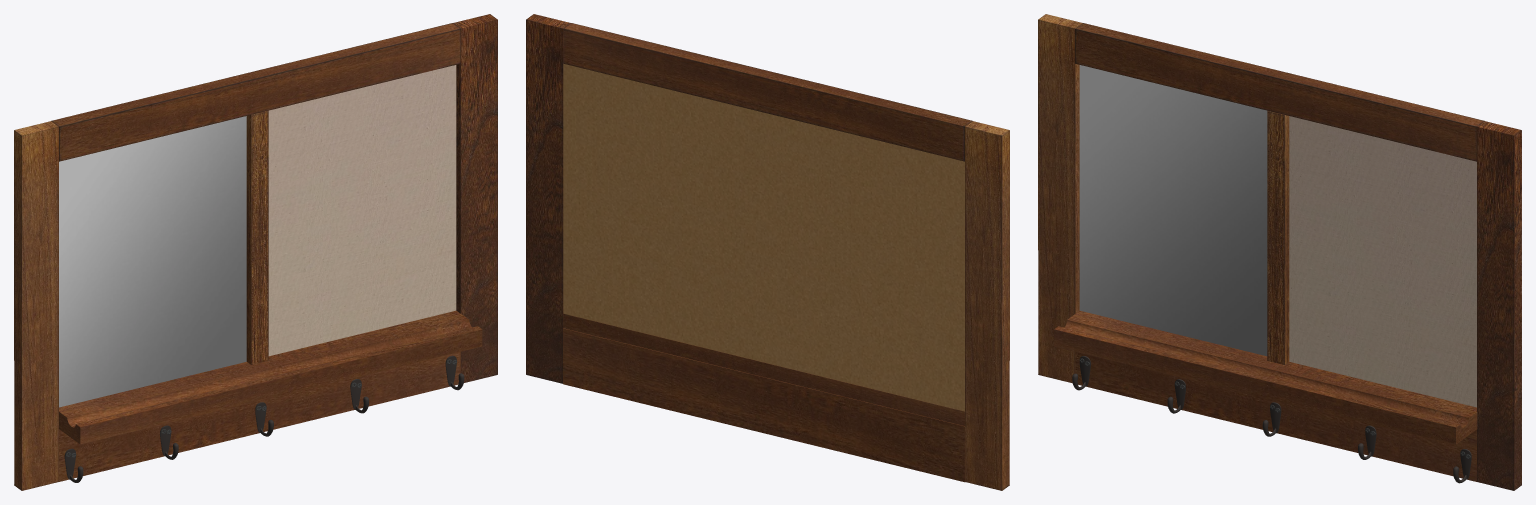
The picture shows the model from 3 angles, left to right: view 1: azimuth 30°, elevation 25°; view 2: azimuth 150°, elevation 25°; view 3: azimuth 330°, elevation 25°; orthographic projection.
Visible parts, largest first — view 1: RootNode; view 2: RootNode; view 3: RootNode.
Part boxes in pixels (x1,y1,x2,y2): RootNode: (14,14,497,490); RootNode: (526,14,1009,490); RootNode: (1038,14,1521,490).
Bounding box in the file's own units: 0.7827 × 0.5587 × 0.0831.
Materials: 1 (1 with a texture image).
